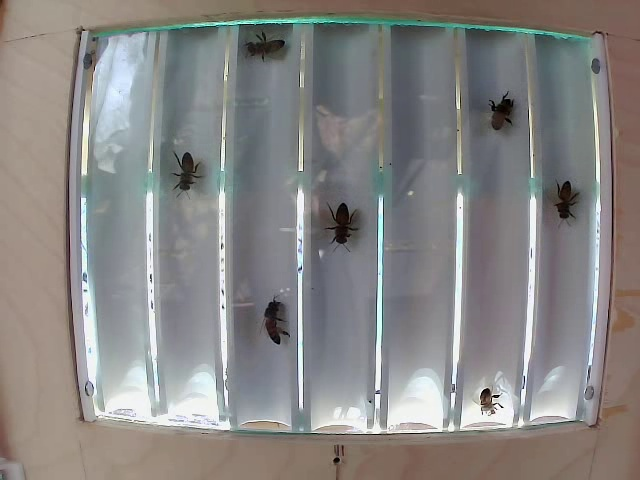bee: (251, 288, 287, 356), (463, 381, 512, 423), (165, 154, 201, 205), (320, 208, 365, 247), (245, 30, 289, 64), (557, 182, 586, 225), (488, 85, 511, 136)
